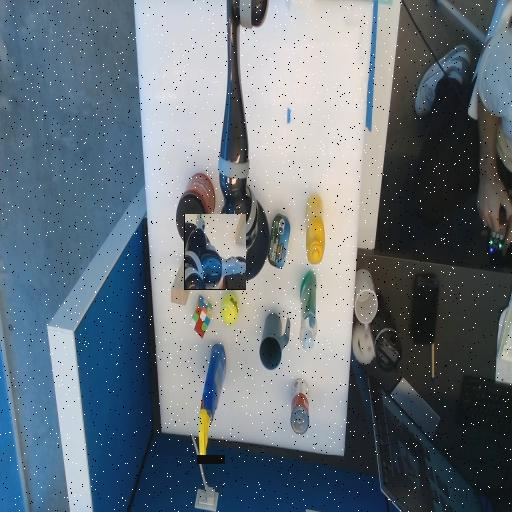bowl: (218, 194, 268, 279)
cleanser: (299, 303, 316, 319)
coffee_can: (176, 174, 214, 245)
jaco: (185, 214, 246, 289)
meat_can: (267, 230, 289, 251)
mug: (258, 326, 289, 356)
mustard_bottle: (305, 195, 324, 263)
rubik: (190, 305, 212, 327)
soup_can: (290, 379, 308, 434)
tennis_ball: (221, 294, 238, 324)
windex: (197, 391, 225, 413)
wooden_block: (171, 258, 195, 304)
workspace: (135, 3, 372, 455)
